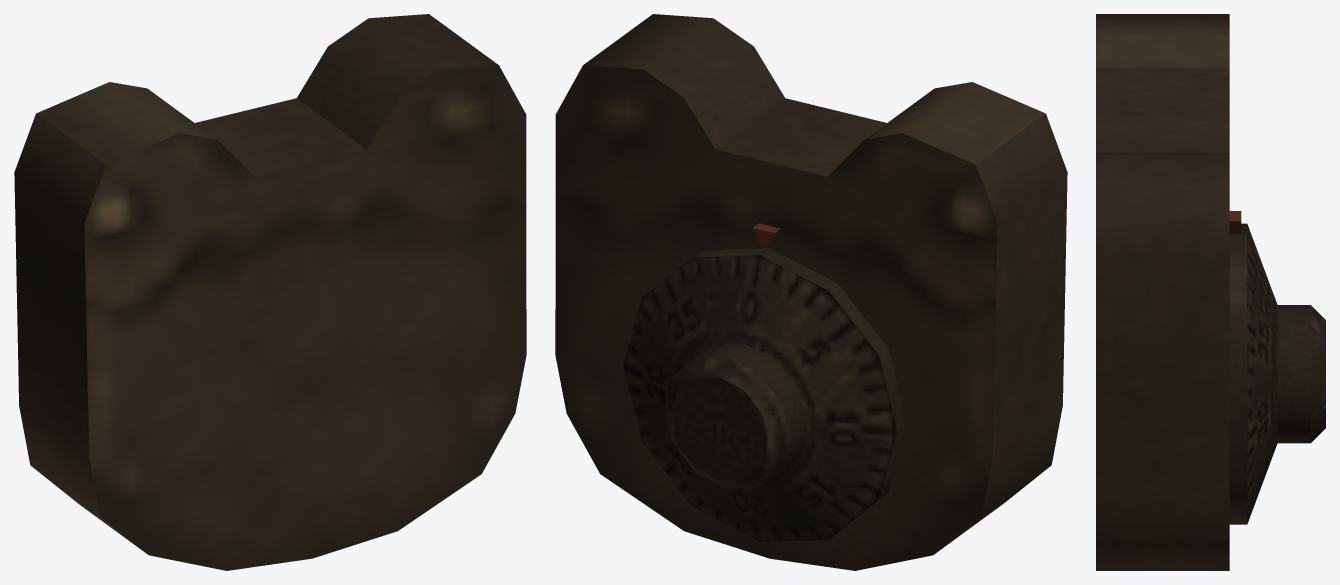
File: padlock_3.fbx
3 views of the same model, side by side, from view 1: azimuth 30°, elevation 25°; view 2: azimuth 150°, elevation 25°; view 3: azimuth 270°, elevation 25° (orthographic). The views are drawn at different scales.
Parts seen in each view (by area): view 1: padlock_3; view 2: padlock_3, padlock_3_knob; view 3: padlock_3, padlock_3_knob.
Boxes of the visible parts, x1,y1,x2,y2 form: padlock_3: (14,14,526,570); padlock_3: (555,14,1067,570); padlock_3_knob: (623,248,906,541); padlock_3: (1096,14,1241,570); padlock_3_knob: (1229,223,1325,524).
Bounding box in the file's own units: 0.0806 × 0.0381 × 0.0798.
